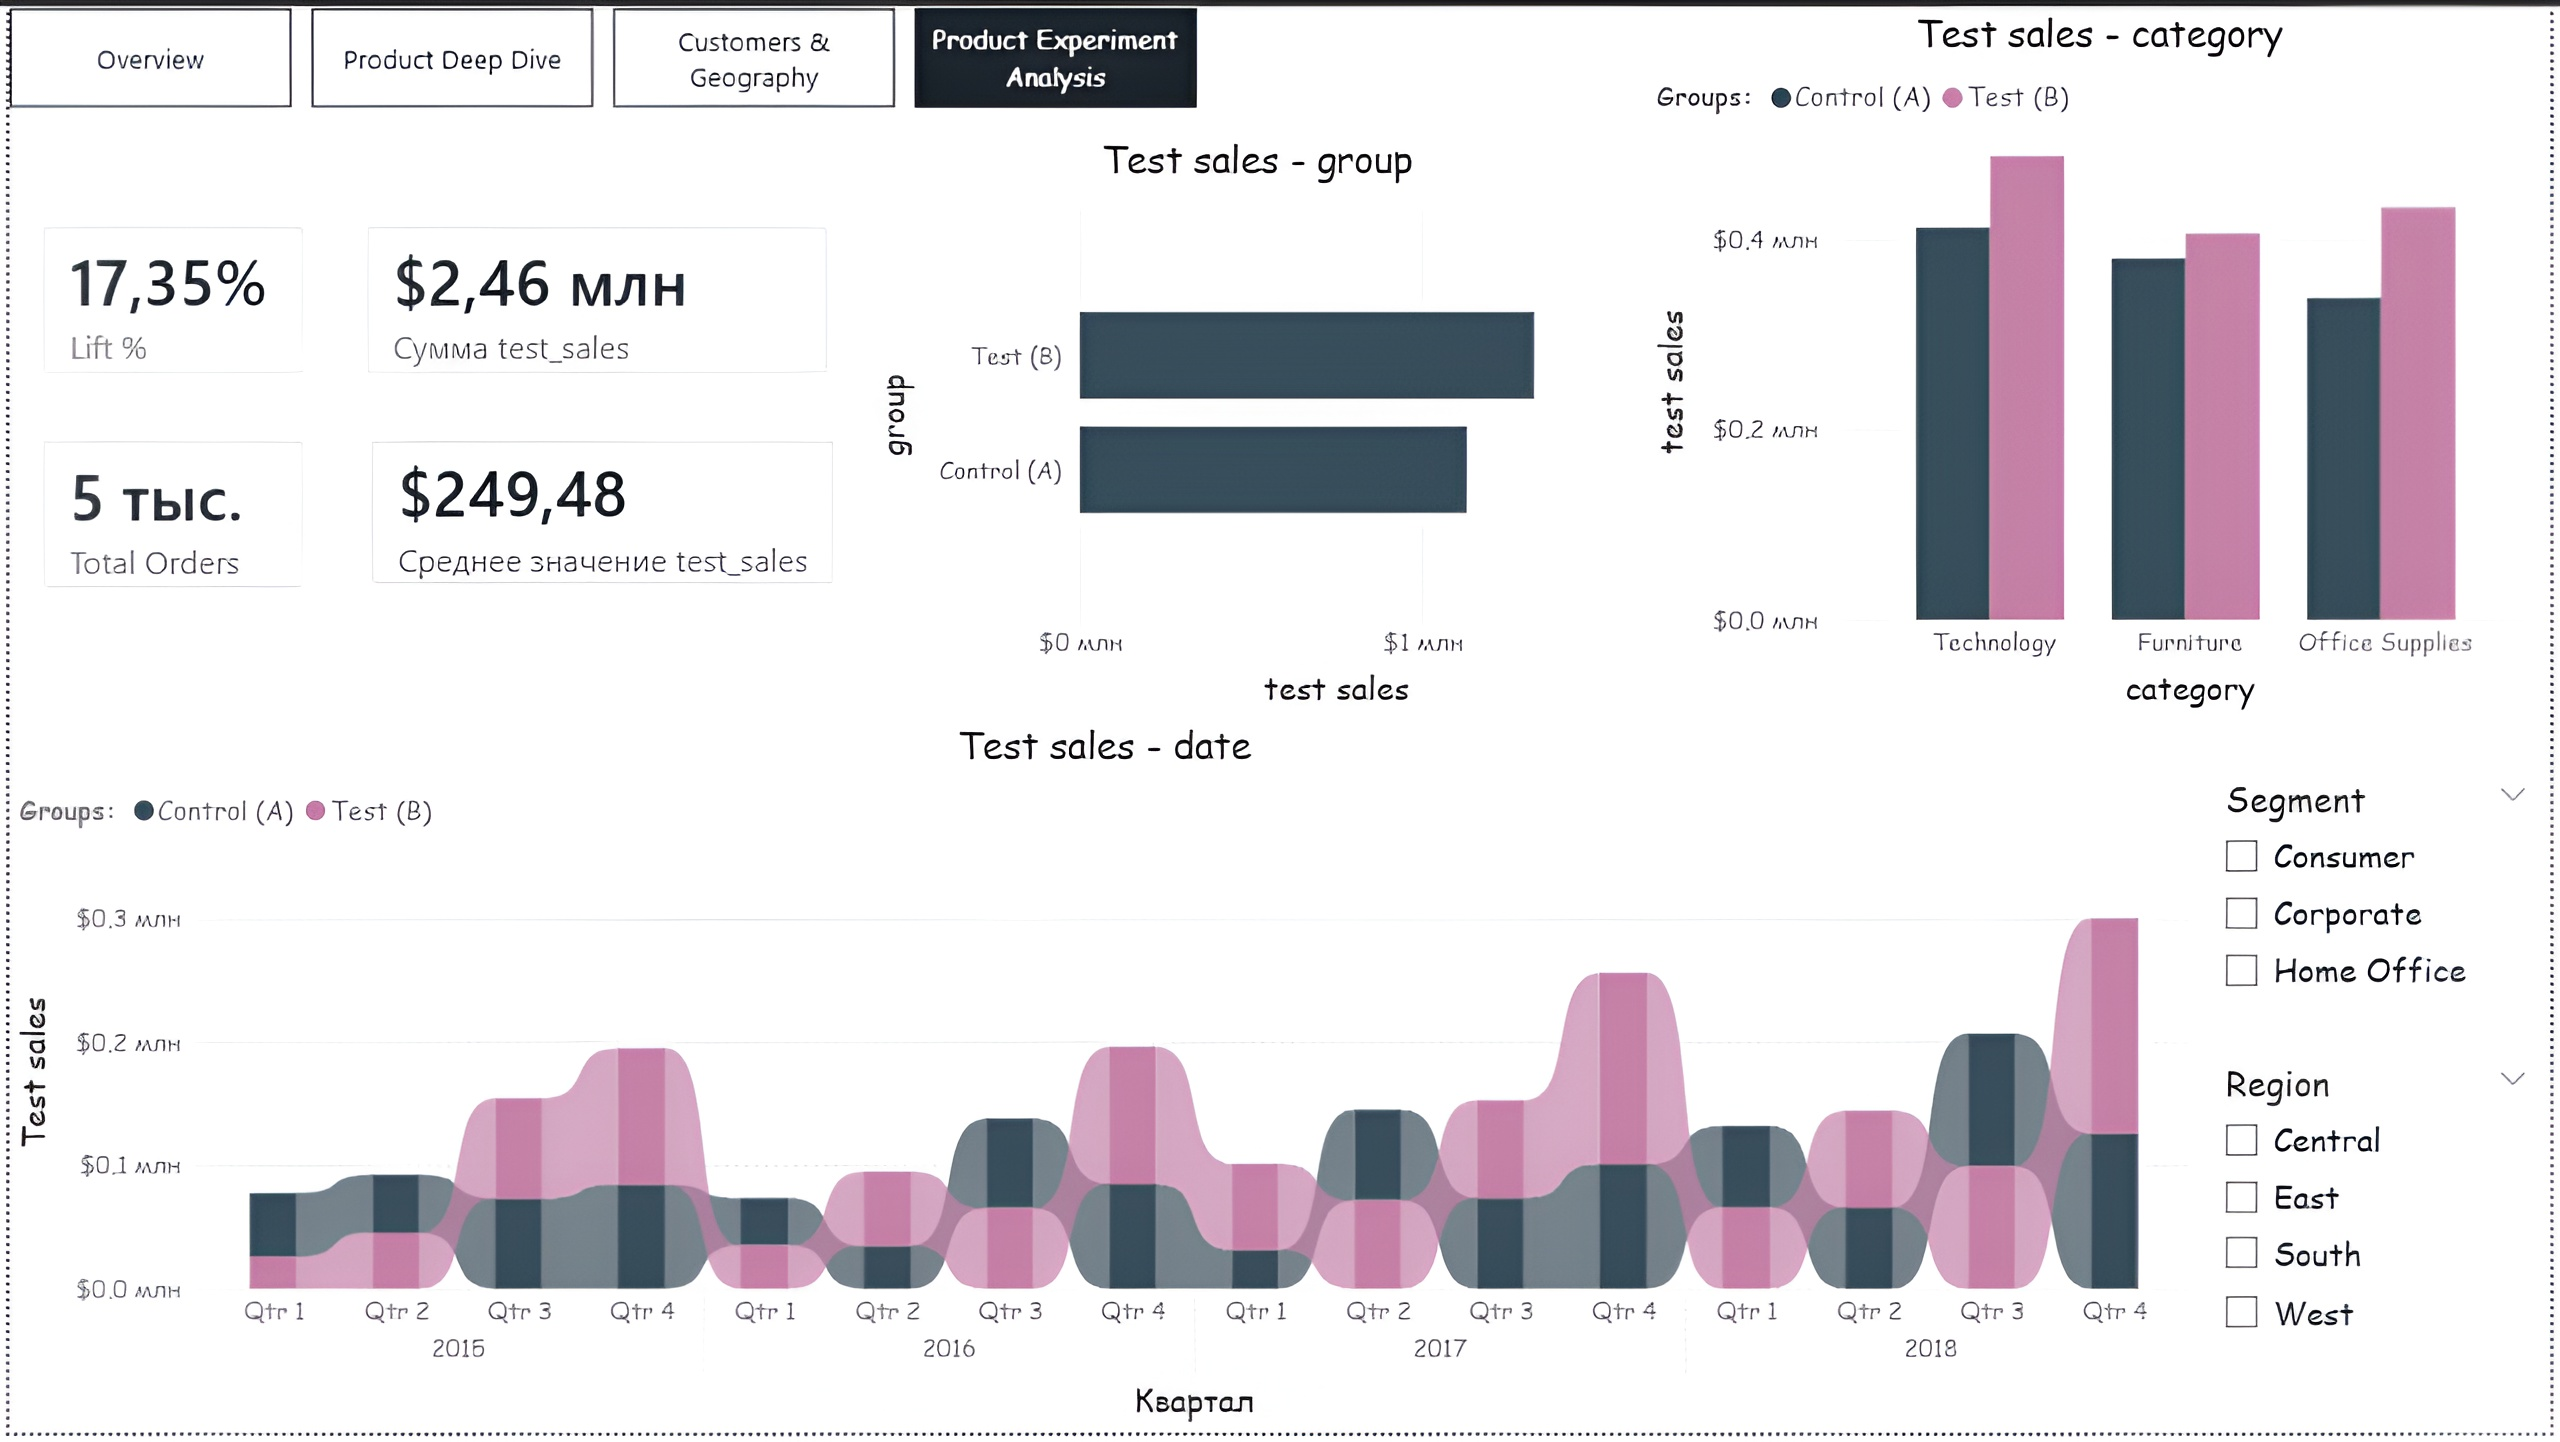

The dashboard page shown, as its layout file describes it:
{"tool":"powerbi","page":{"name":"Product Experiment Analysis","canvas":[1280,720],"ordinal":3},"visuals":[{"type":"clusteredBarChart","title":"Test sales - group","fields":{"Category":["superstore_project orders_ab_test.ab_group"],"Y":["Sum(orders_ab_test.test_sales)"]},"box":[433.1,63.6,391.1,296.4],"z":0},{"type":"cardVisual","fields":{"Data":["orders_ab_test.Lift %"]},"box":[0,94.7,165.1,108.3],"z":1000},{"type":"slicer","fields":{"Values":["Customers.segment"]},"box":[1103,383,177.3,143.5],"z":2000},{"type":"cardVisual","fields":{"Data":["Sum(orders_ab_test.test_sales)"]},"box":[162.4,94.7,266.6,108.3],"z":3000},{"type":"cardVisual","fields":{"Data":["Orders.Total Orders"]},"box":[0,203,165.1,108.3],"z":4000},{"type":"cardVisual","fields":{"Data":["Avg(orders_ab_test.test_sales)"]},"box":[165.1,203,268,106.9],"z":5000},{"type":"pageNavigator","box":[0,1.4,600,50],"z":6000},{"type":"ribbonChart","title":"Test sales - date","fields":{"Series":["orders_ab_test.ab_group"],"Y":["Sum(orders_ab_test.test_sales)"],"Category":["orders_ab_test.order_date.Изменение.Иерархия дат.Год","orders_ab_test.order_date.Изменение.Иерархия дат.Квартал"]},"box":[0,360,1103,360],"z":7000},{"type":"clusteredColumnChart","title":"Test sales - category","fields":{"Category":["Products.category"],"Y":["Sum(orders_ab_test.test_sales)"],"Series":["orders_ab_test.ab_group"]},"box":[824.2,0,456.1,360],"z":8000},{"type":"slicer","fields":{"Values":["Geography.region"]},"box":[1103,526.5,177.3,193.5],"z":9000}]}

Visuals, with their boxes in screenshot pixels (x1, y1, x2, y2), scaled from the page's 1280x720 canvas onto the 2560x1442 screenshot:
"Test sales - group" clusteredBarChart: BBox(866, 127, 1648, 721)
cardVisual - orders_ab_test.Lift %: BBox(0, 190, 330, 407)
slicer - Customers.segment: BBox(2206, 767, 2559, 1054)
cardVisual - Sum(orders_ab_test.test_sales): BBox(325, 190, 858, 407)
cardVisual - Orders.Total Orders: BBox(0, 407, 330, 623)
cardVisual - Avg(orders_ab_test.test_sales): BBox(330, 407, 866, 621)
pageNavigator: BBox(0, 3, 1200, 103)
"Test sales - date" ribbonChart: BBox(0, 721, 2206, 1441)
"Test sales - category" clusteredColumnChart: BBox(1648, 0, 2559, 721)
slicer - Geography.region: BBox(2206, 1054, 2559, 1441)
